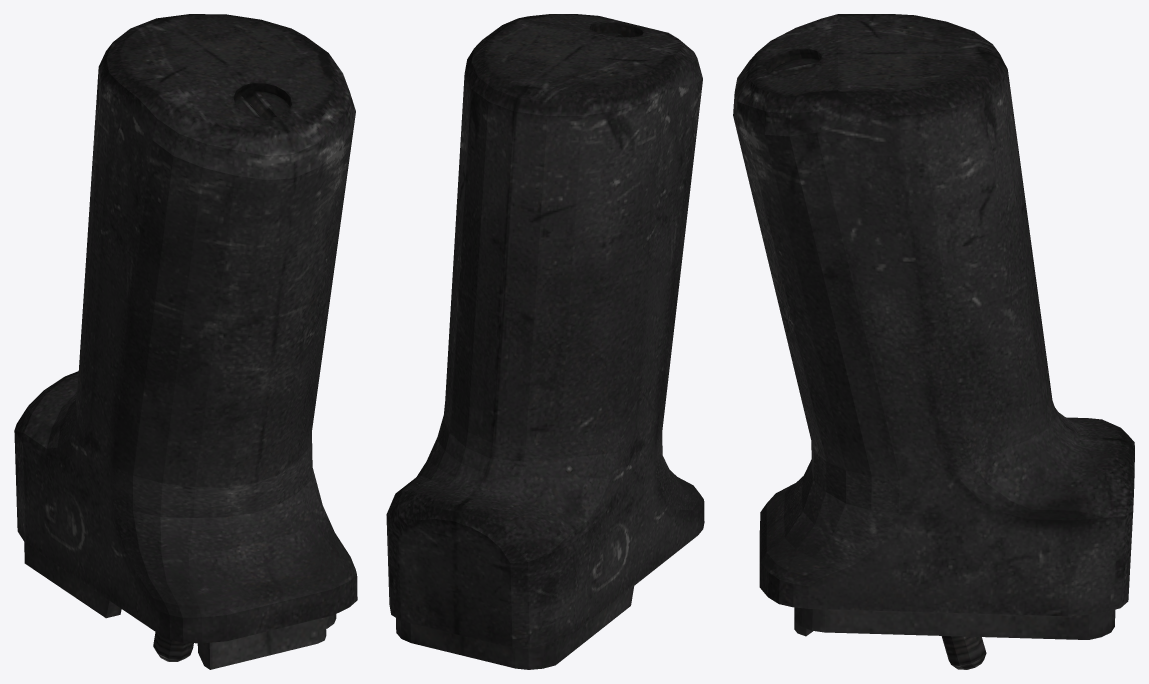
The picture shows the model from 3 angles, left to right: view 1: azimuth 30°, elevation 25°; view 2: azimuth 150°, elevation 25°; view 3: azimuth 270°, elevation 25°; orthographic projection. The views are drawn at different scales.
Parts seen in each view (by area): view 1: TW_5c471be12e221602b66cd9ac_PZ_Import; view 2: TW_5c471be12e221602b66cd9ac_PZ_Import; view 3: TW_5c471be12e221602b66cd9ac_PZ_Import.
Part boxes in pixels (x1=…): TW_5c471be12e221602b66cd9ac_PZ_Import: x1=14, y1=14, x2=357, y2=669; TW_5c471be12e221602b66cd9ac_PZ_Import: x1=386, y1=14, x2=704, y2=669; TW_5c471be12e221602b66cd9ac_PZ_Import: x1=733, y1=14, x2=1134, y2=669.
Bounding box in the file's own units: 0.0199 × 0.0362 × 0.061.
1 material, 1 textured.
